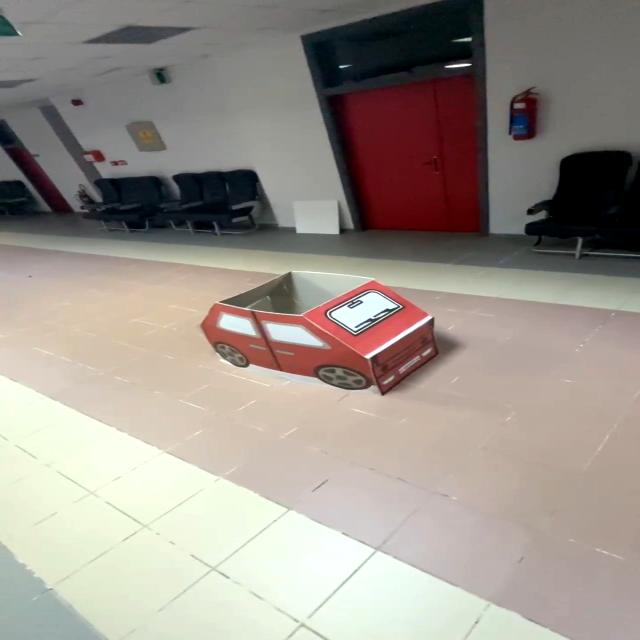red_car: (169, 259, 492, 417)
